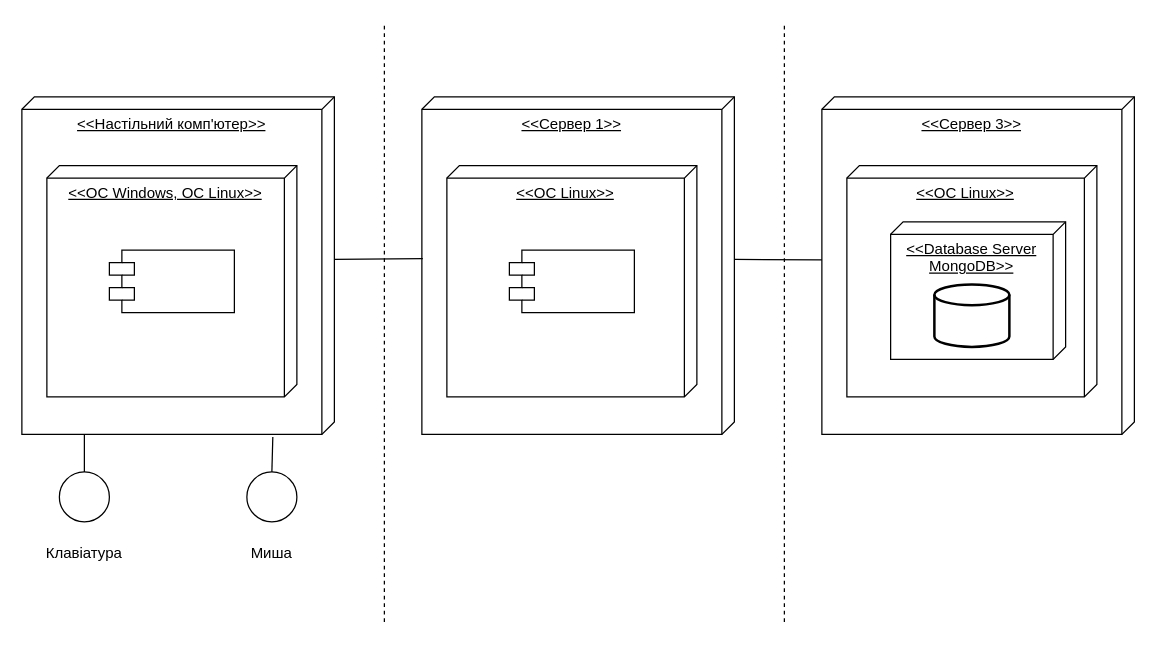
The diagram is 1156 pixels wide and 645 high, and some of its shapes have lost their labels. Here are the shapes that lost their labels. From the top down, the centre of each, then its label:
pixel 171 280: *.js (React)
pixel 571 280: *.jar
pixel 971 315: JSON
